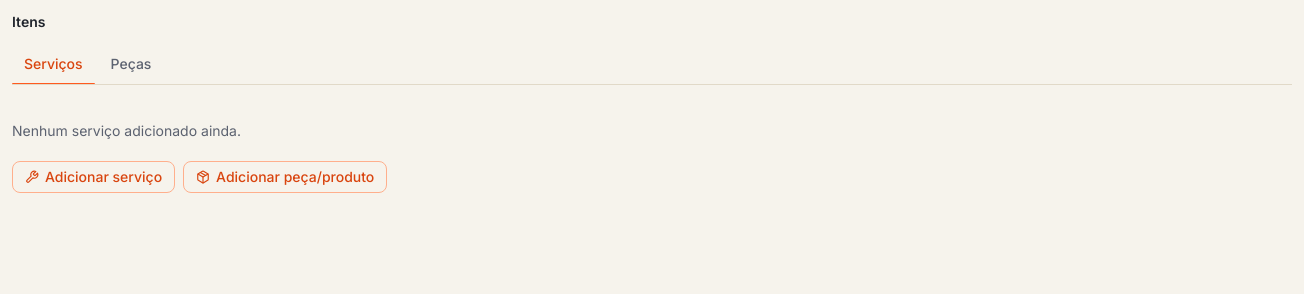
it: ItemsEditor › starts on the Serviços tab, and picking from the search adds a compact line
This screenshot has width=1304, height=294.
Check: the text "Nenhum serviço adicionado ainda." is shown, box [12,122,241,139]
Click the button "Adicionar serviço".
click(94, 177)  # box [12,161,175,193]
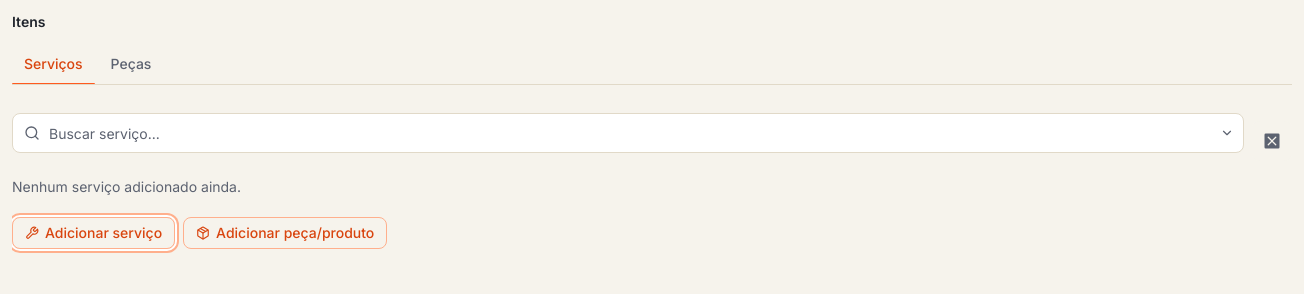
Click the field.
click(628, 133)  # box [12,113,1244,153]
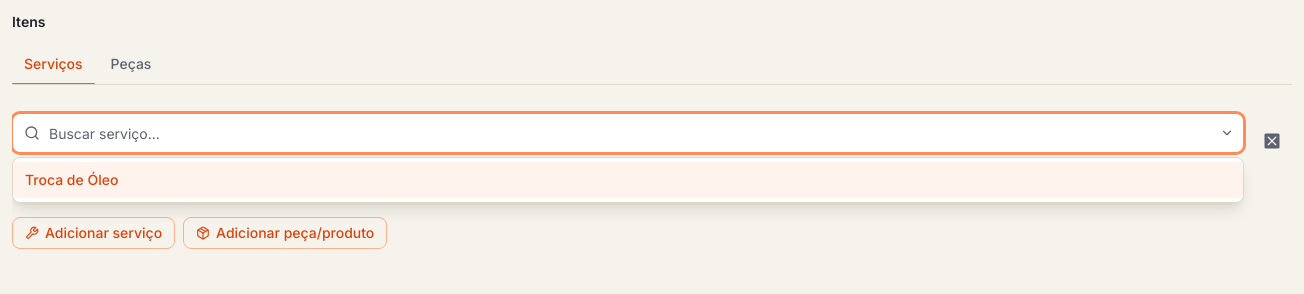
Click the button "Troca de Óleo".
click(72, 180)  # box [13,162,1243,198]
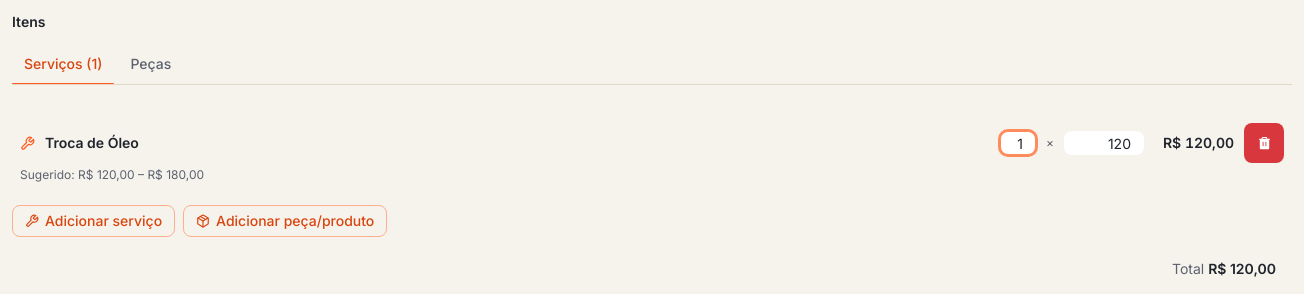
Check: the text "Troca de Óleo" is shown, box [45,134,139,151]
Check: the text "Nenhum serviço adicionado ainda." is gone
Check: the field is gone
